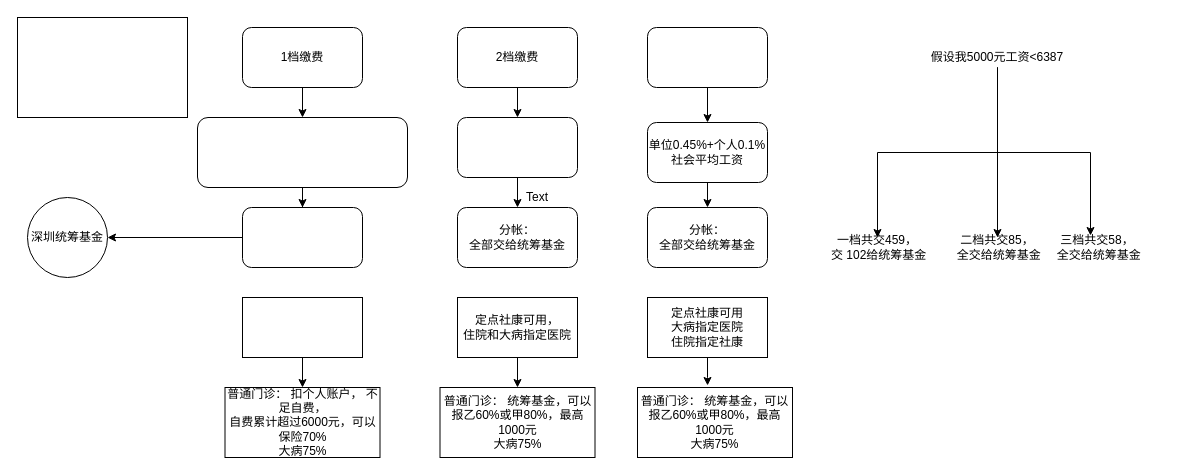
Some shapes in this 1185 by 476 pixel diagram are drawn without their labels. Here are the shapes that lost their labels. From the top down, the box of each, then its label:
(16, 16, 188, 118): 2021年平均工资10646 60%=6387
(646, 26, 768, 88): 3档缴费
(196, 116, 408, 188): 企业单位交付比例： 企业5.2%+个人2% 社会平均工资的60%-300%
(456, 116, 578, 178): 单位0.6%+个人0.2% 社会平均工资
(242, 206, 362, 268): 分帐： 45岁以上：1.6%交给统筹基金
(242, 296, 362, 358): 全市医院可用
